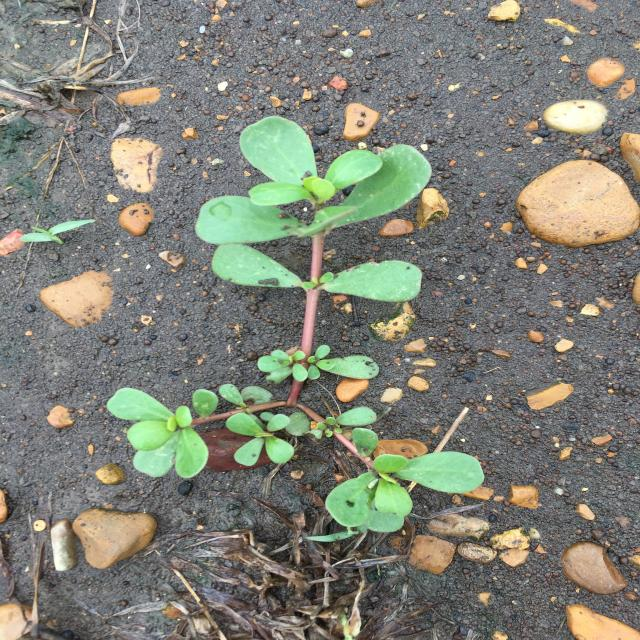Purslane: (106, 116, 486, 533)
